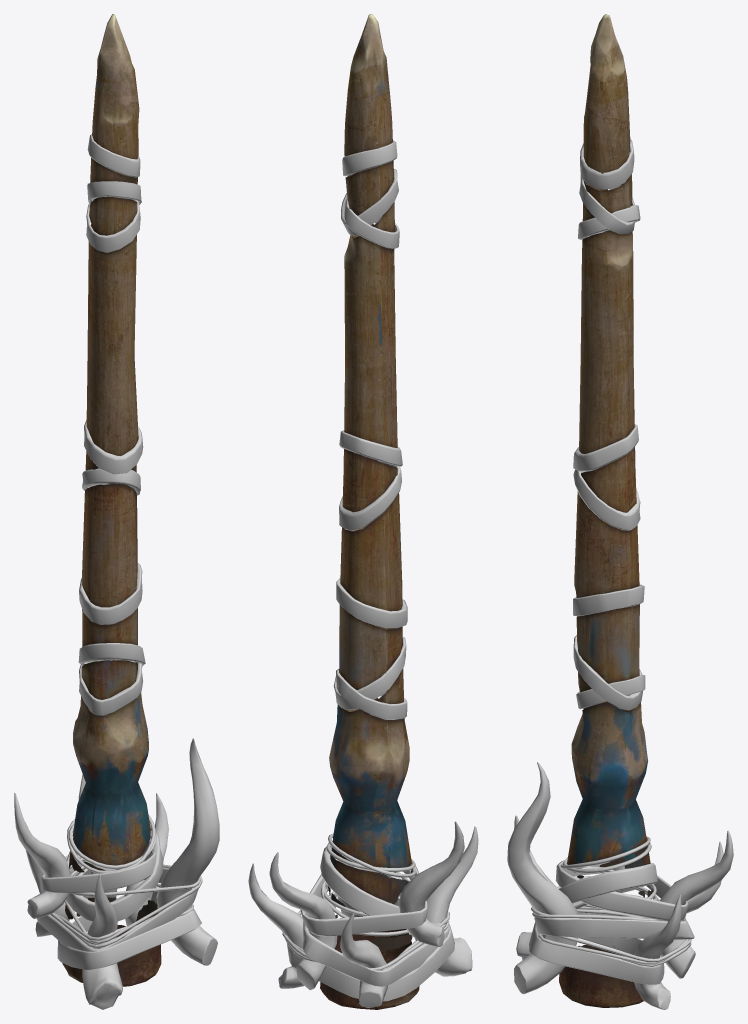
3 renders of one model, left to right at view 1: azimuth 30°, elevation 25°; view 2: azimuth 150°, elevation 25°; view 3: azimuth 270°, elevation 25°, orthographic. The views are drawn at different scales.
Parts seen in each view (by area): view 1: SM_Garou_Trophy_02_LOD0; view 2: SM_Garou_Trophy_02_LOD0; view 3: SM_Garou_Trophy_02_LOD0.
Boxes of the visible parts, box(x1,y1,x2,y2) form: SM_Garou_Trophy_02_LOD0: box(14, 14, 219, 1009); SM_Garou_Trophy_02_LOD0: box(248, 14, 478, 1009); SM_Garou_Trophy_02_LOD0: box(507, 14, 733, 1009).
Bounding box in the file's own units: 0.9665 × 4.9 × 1.03.
